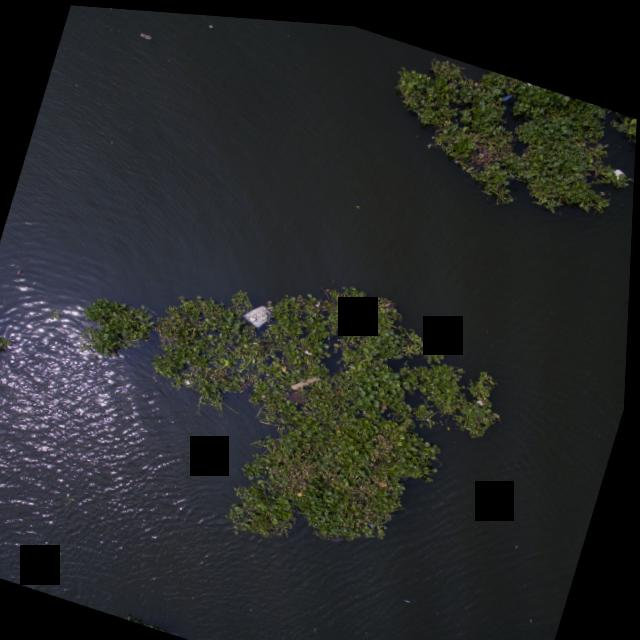plastic: (238, 290, 278, 331), (611, 154, 629, 172), (135, 26, 157, 39), (370, 513, 382, 524), (404, 589, 418, 598), (186, 372, 196, 384), (351, 293, 362, 303), (525, 73, 535, 78)
